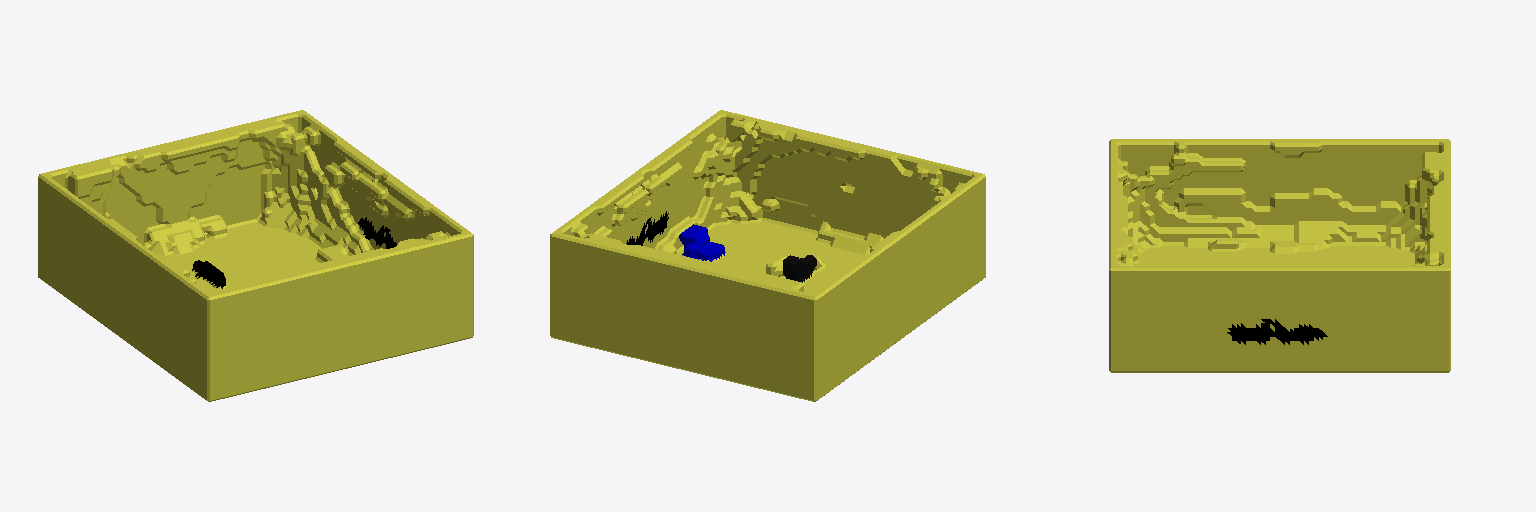
3 renders of one model, left to right at view 1: azimuth 30°, elevation 25°; view 2: azimuth 150°, elevation 25°; view 3: azimuth 270°, elevation 25°, orthographic.
Parts seen in each view (by area): view 1: Input_prediction_mesh; view 2: Input_prediction_mesh; view 3: Input_prediction_mesh.
Boxes of the visible parts, x1,y1,x2,y2 form: Input_prediction_mesh: [38, 110, 473, 401]; Input_prediction_mesh: [550, 110, 985, 401]; Input_prediction_mesh: [1109, 139, 1450, 372].
Bounding box in the file's own units: 5.12 × 1.92 × 5.68.